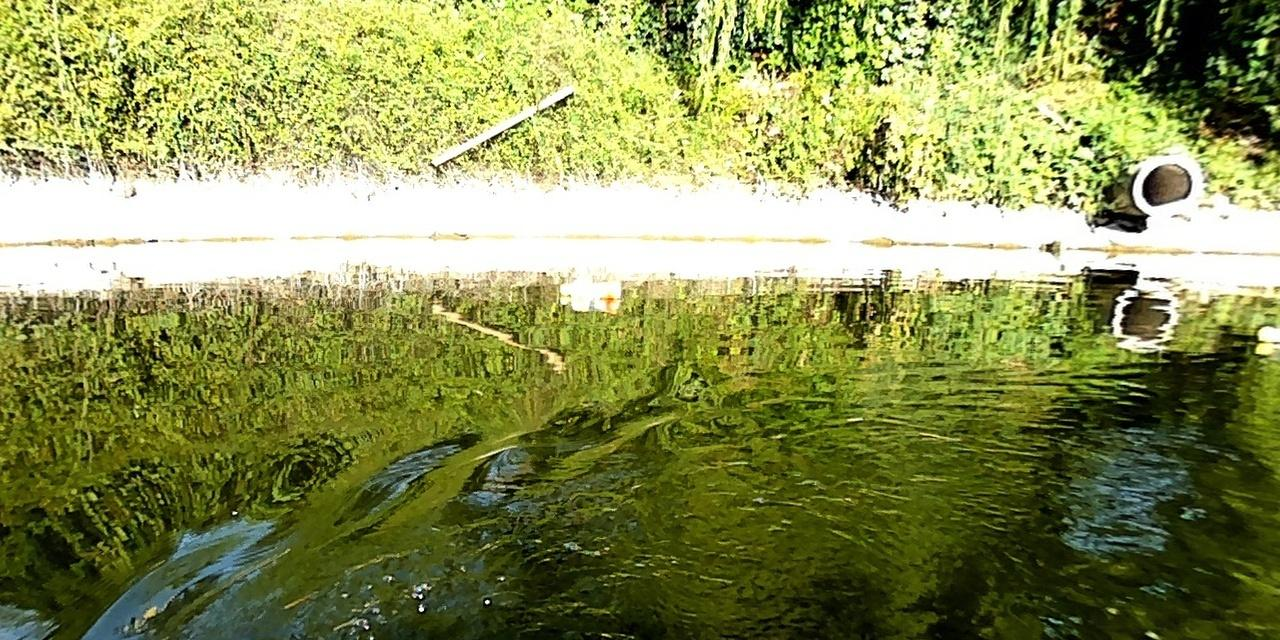bottle: (558, 277, 622, 297)
